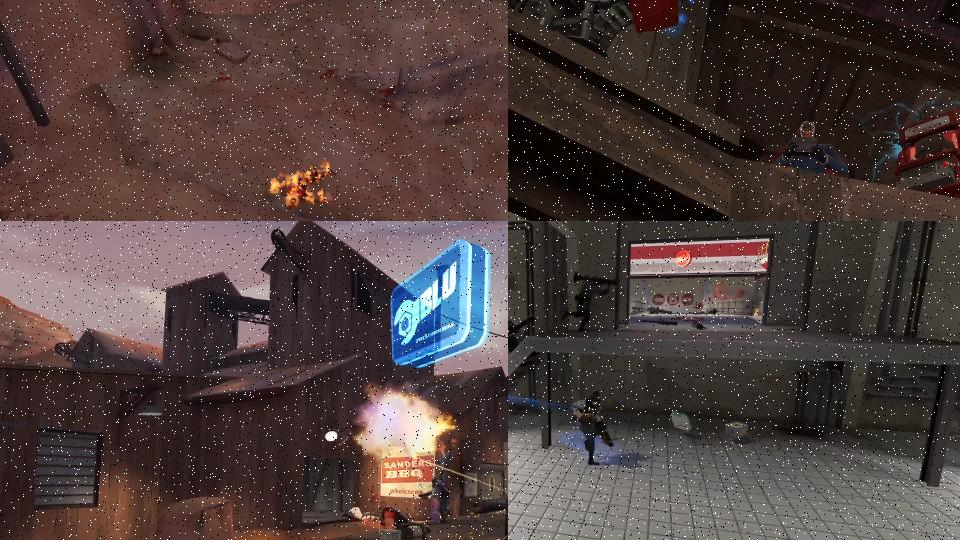Enemy: (564, 386, 623, 473), (555, 269, 621, 338), (774, 120, 850, 177), (508, 303, 535, 366), (418, 478, 452, 524), (379, 506, 424, 529), (431, 449, 451, 488), (339, 507, 380, 525)
